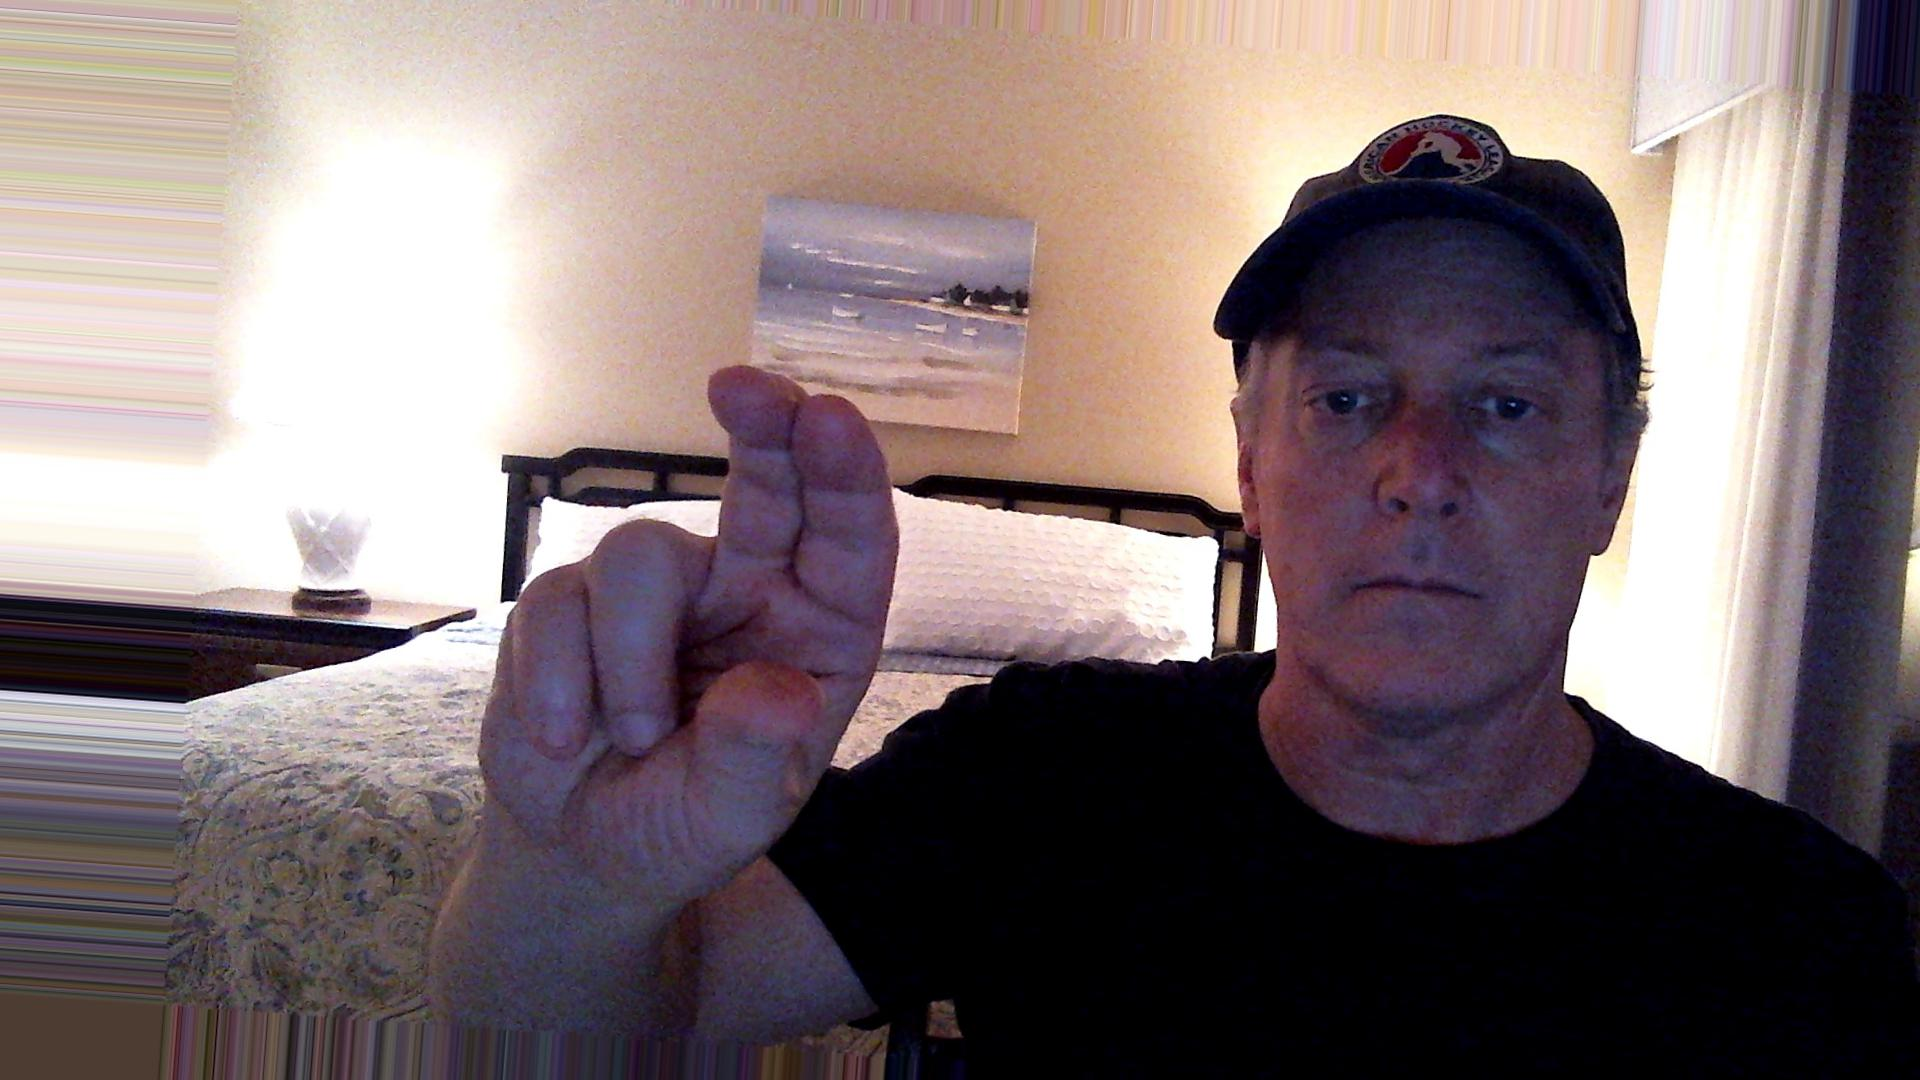No: (455, 340, 924, 922)
